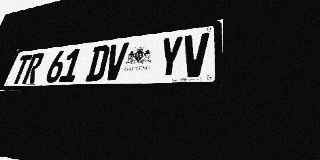1: (58, 48, 83, 82)
6: (44, 50, 68, 83)
D: (85, 45, 111, 81)
R: (22, 53, 45, 84)
T: (10, 54, 33, 84)
V: (181, 32, 209, 77), (103, 42, 129, 81)
Y: (156, 35, 184, 78)
